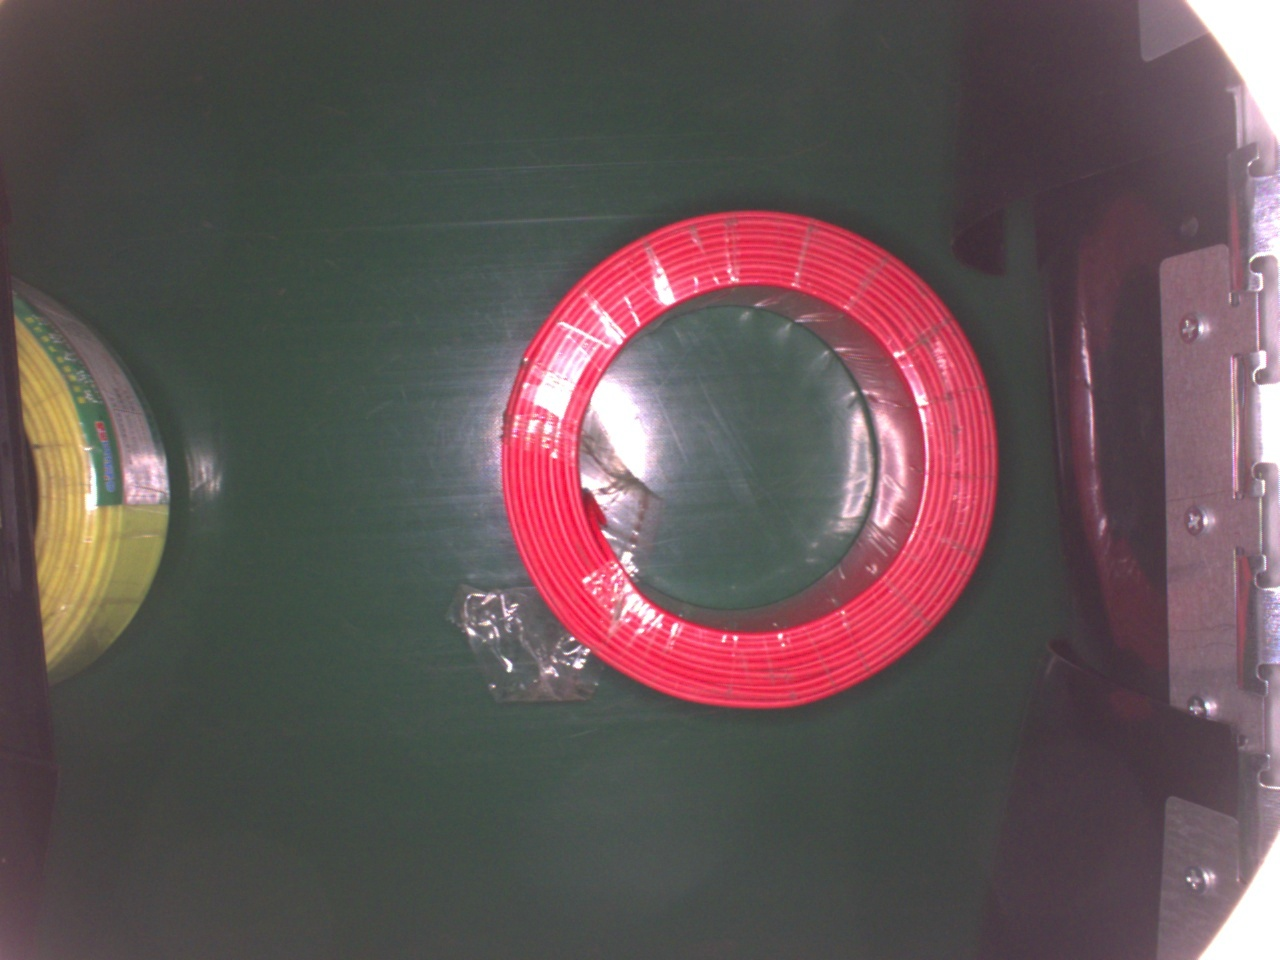red: (500, 207, 999, 707)
yellow: (16, 285, 176, 688)
